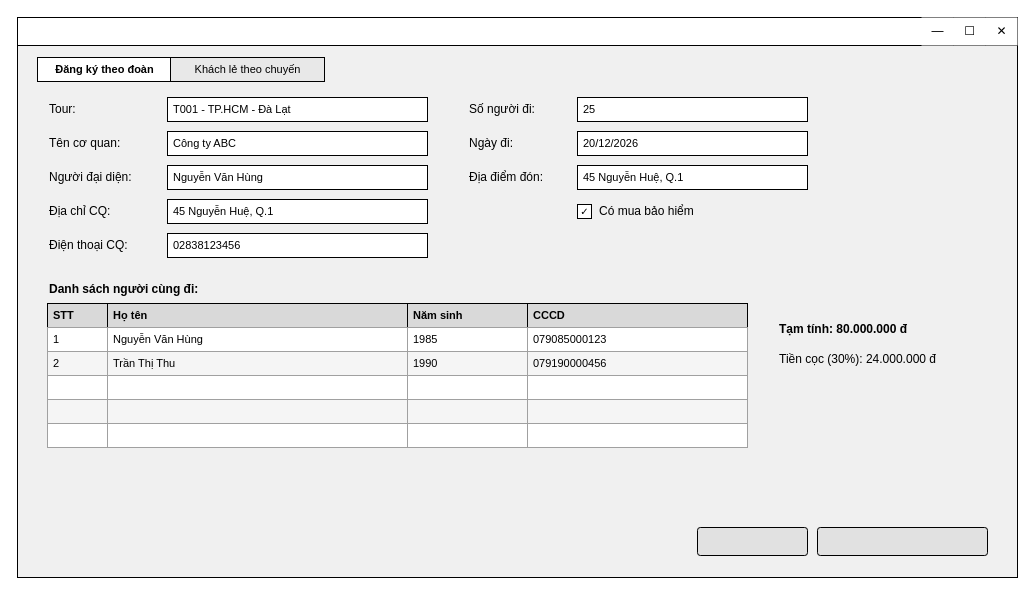
The diagram is 1035 pixels wide and 595 high, and some of its shapes have lost their labels. The box of each missing label's shape, as (x1, y1, x2, y2) in pixels:
Lập phiếu đăng ký: (816, 526, 988, 556)
Nhập lại: (696, 526, 808, 556)
Phiếu đăng ký tour theo đoàn: (16, 16, 1018, 46)
